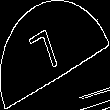L_SE: (37, 25, 73, 85)
